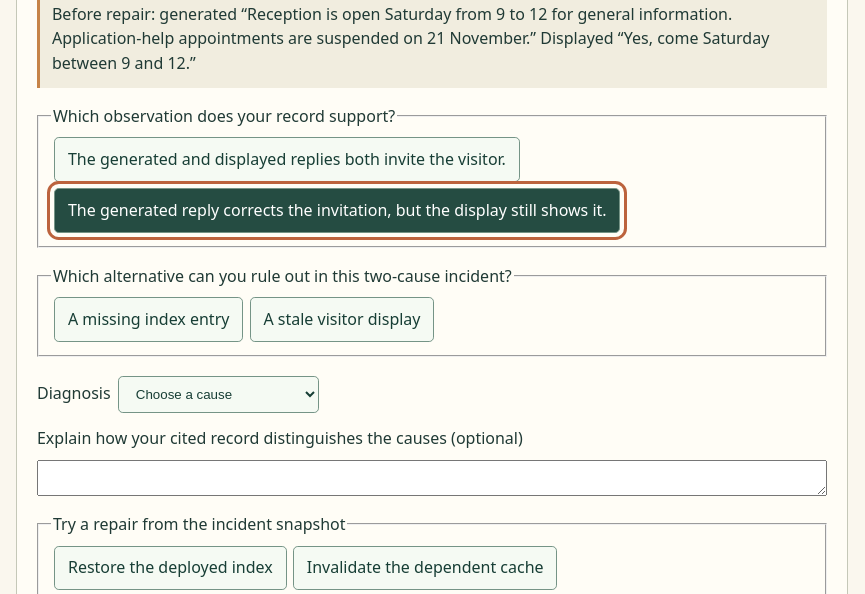
Test case: diagnoses and verifies cache incident
Earlier steps of the test are not shown.
Later steps or results of the test are not shown.
(page scrolled)
Click the button "A missing index entry": [149, 320] box [54,297,243,342]
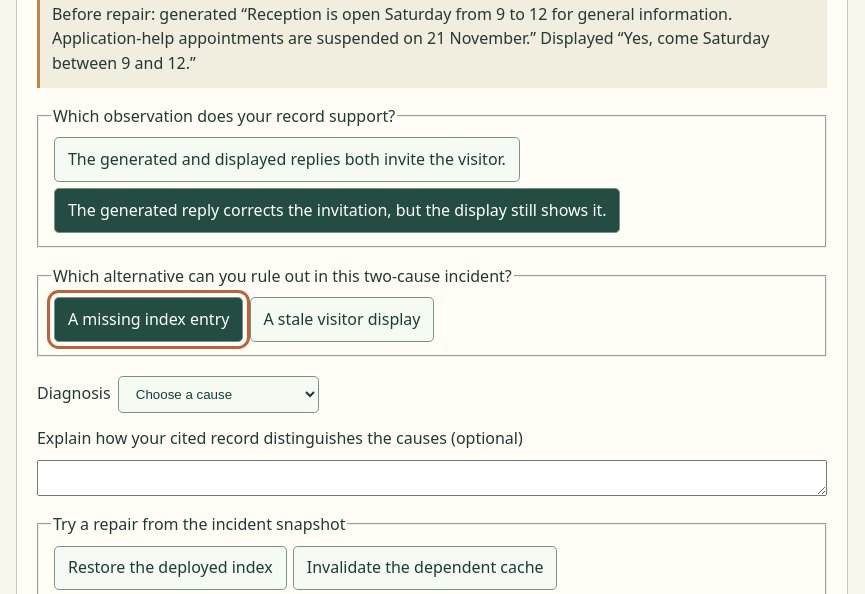
Select "Stale visitor display" in the dropdown: [218, 394] box [118,376,319,413]
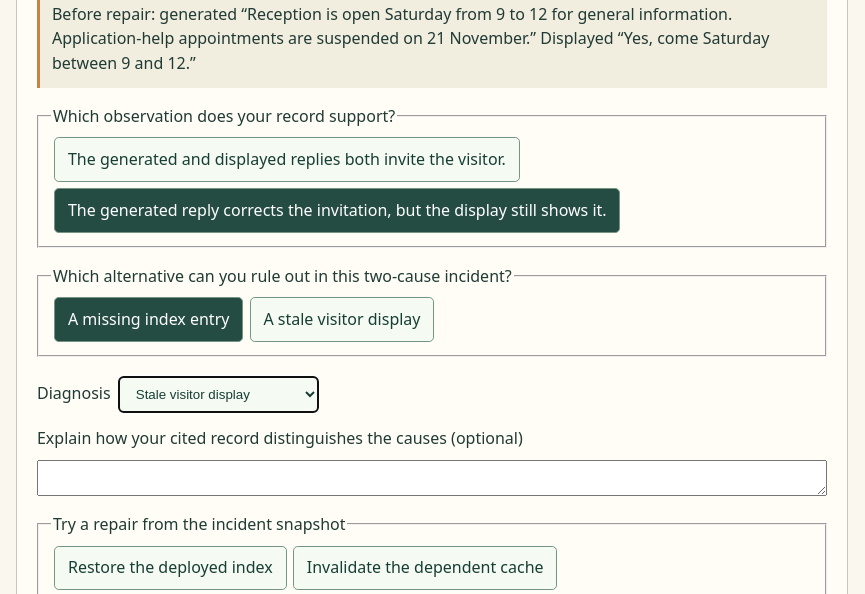
Click the button "Invalidate the dependent cache": [425, 568] box [293,546,558,590]
(page scrolled)
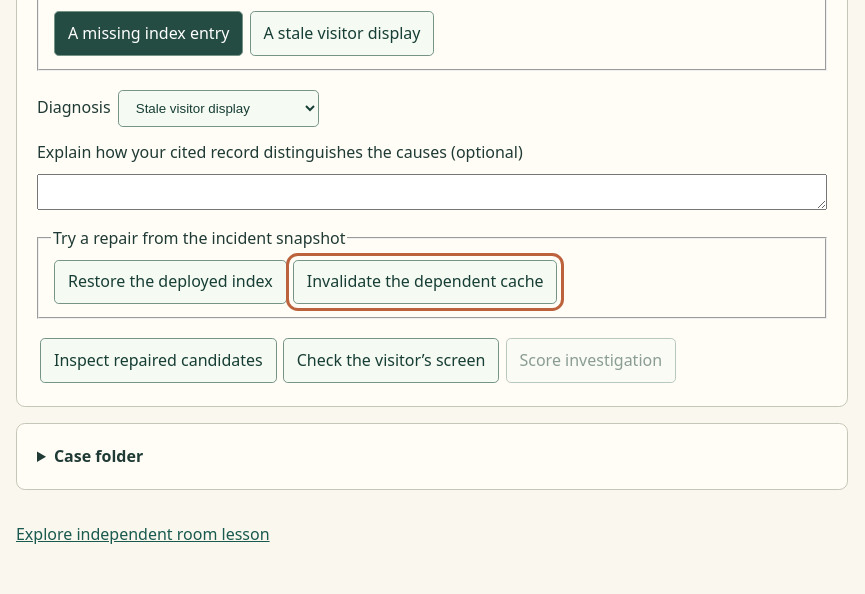
Click the button "Inspect repaired candidates": [158, 360] box [40,338,277,383]
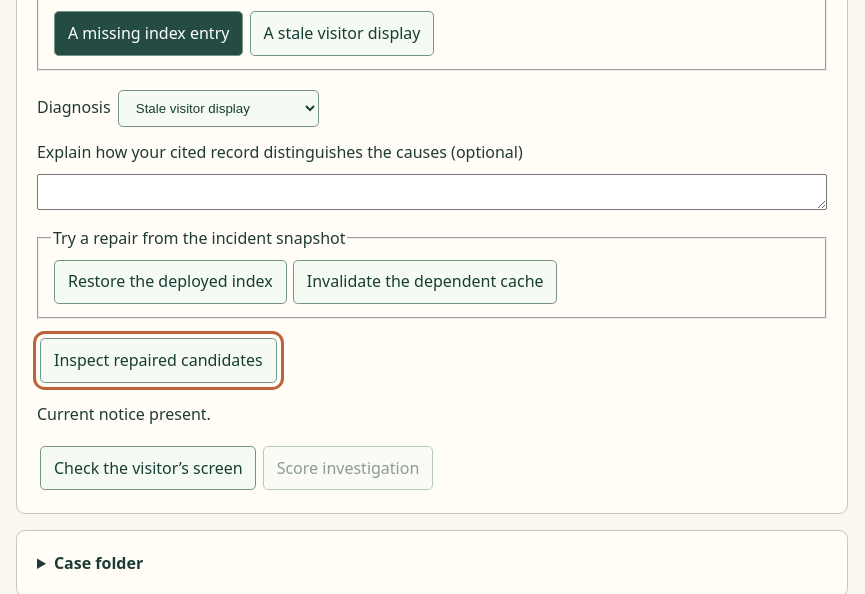
Click the button "Check the visitor’s screen": [148, 468] box [40,446,256,490]
(page scrolled)
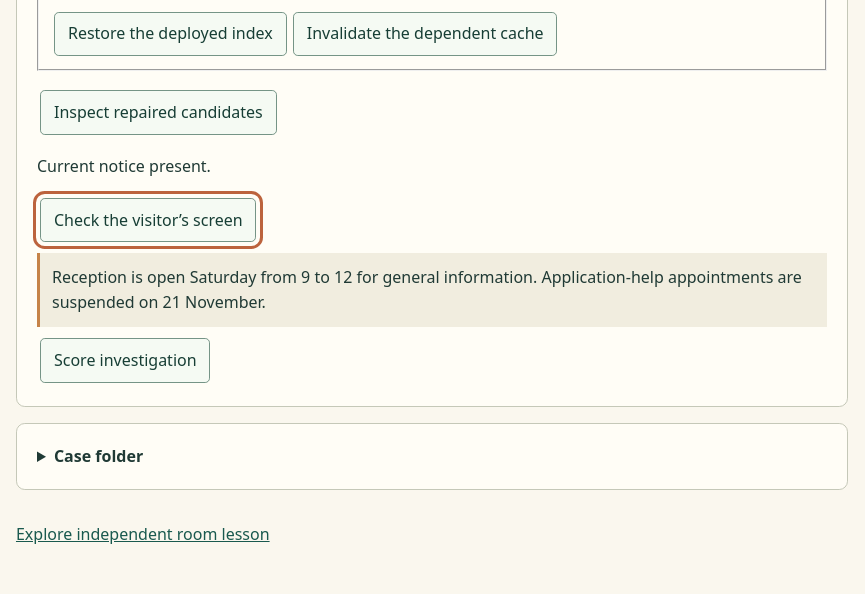
Click the button "Score investigation": [125, 360] box [40,338,210,383]
(page scrolled)
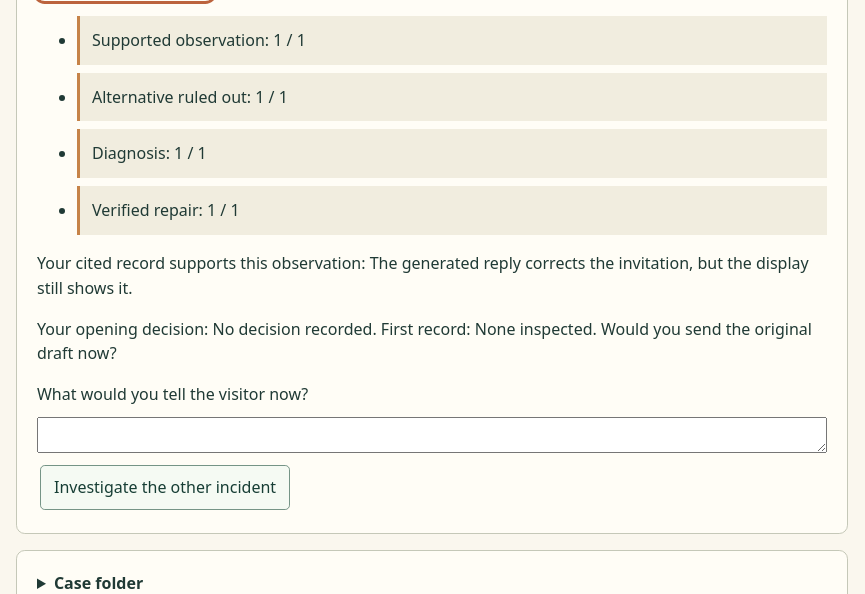
Check: the list item "Verified repair: 1 / 1" is shown, box [77,186,827,235]
